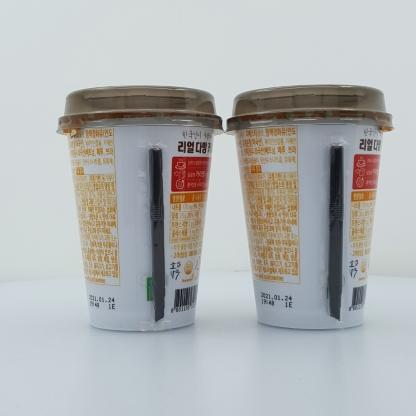---------: (224, 85, 395, 330), (56, 85, 224, 332)
